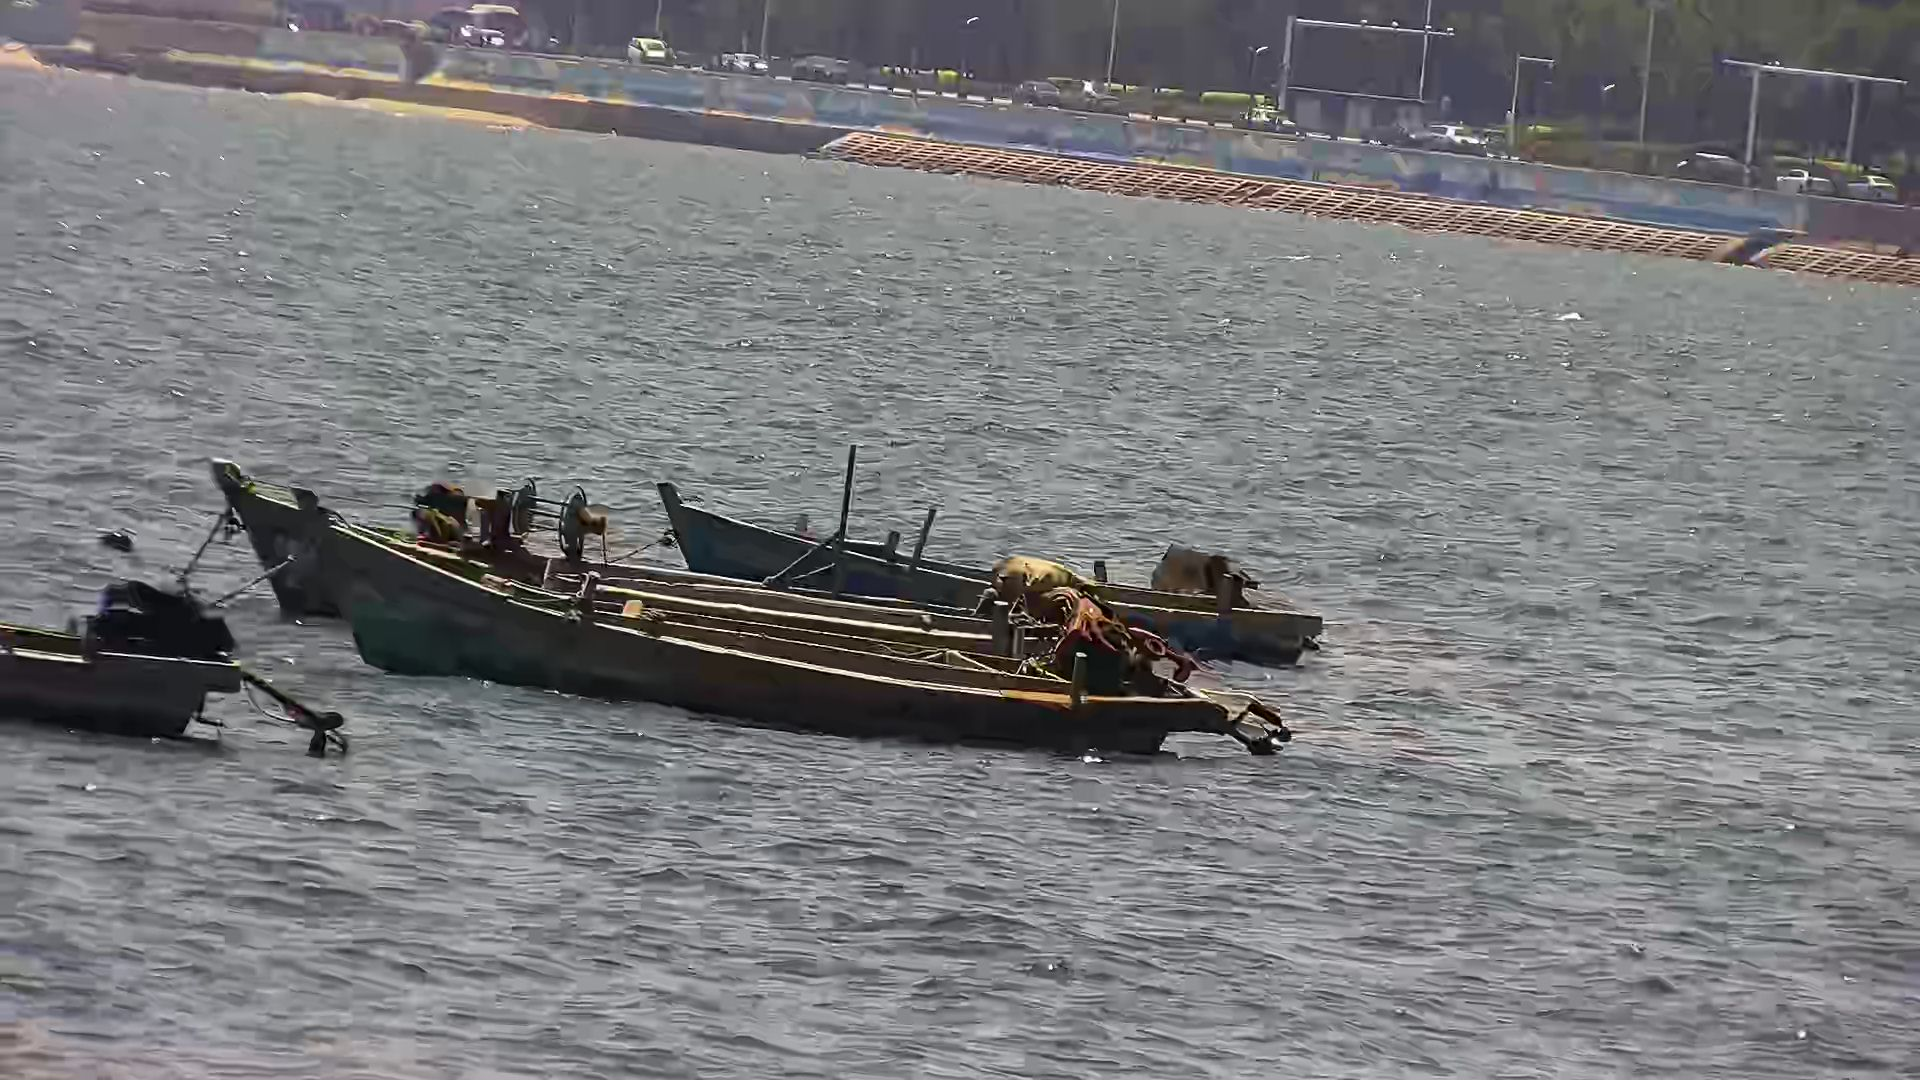ball: (98, 520, 142, 558)
boat: (307, 506, 1284, 752), (195, 452, 1164, 653), (629, 448, 1356, 658), (1, 545, 373, 777)
